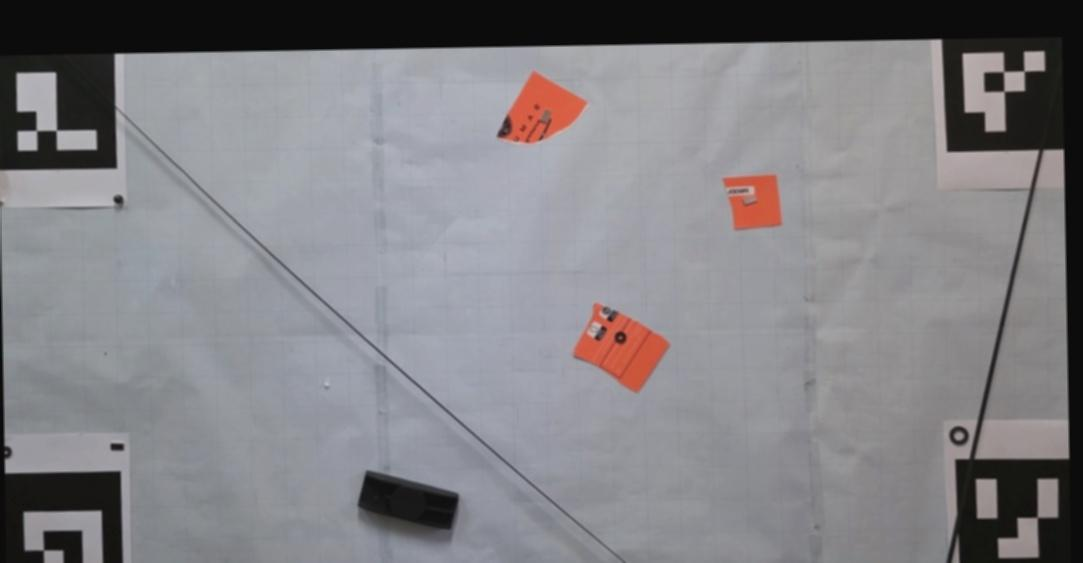obstacle: (573, 302, 670, 393), (494, 70, 588, 147), (358, 470, 460, 532), (722, 173, 784, 232)
